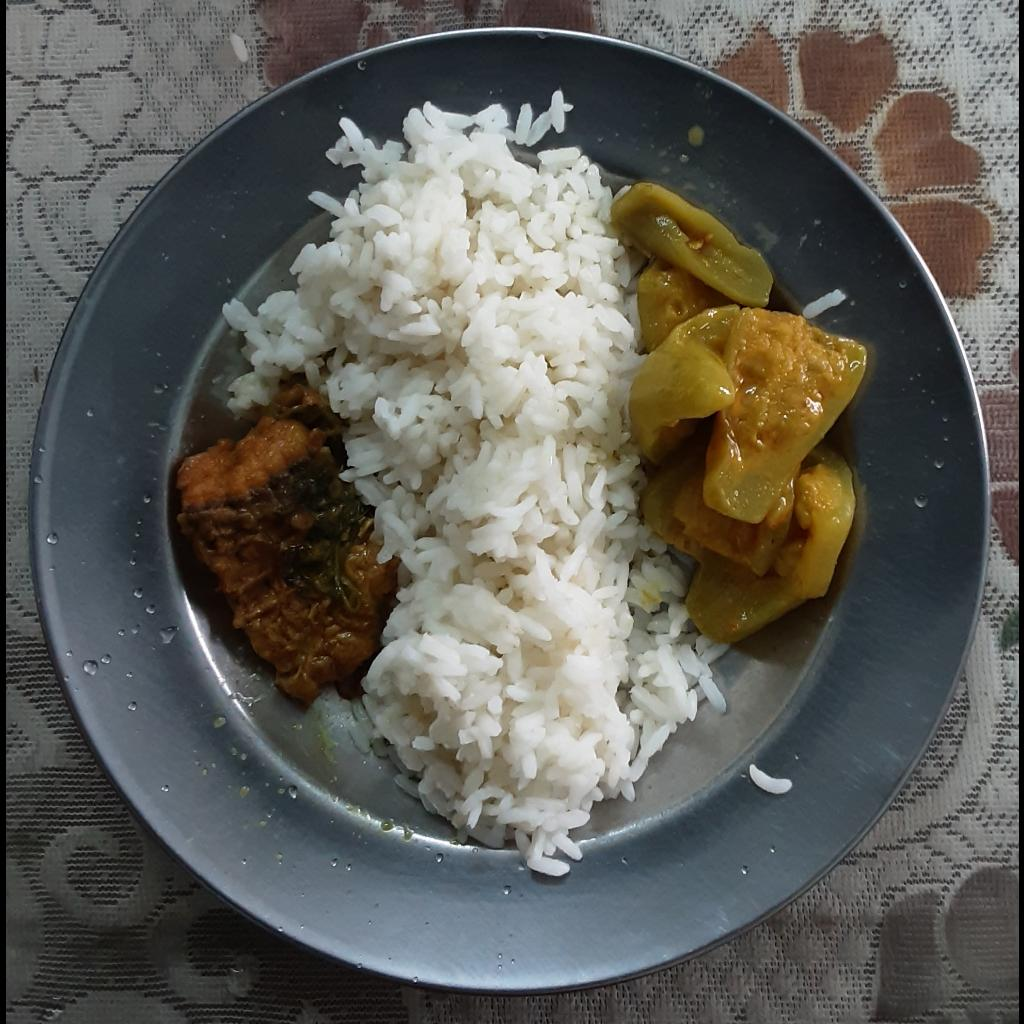chichinga-vaji: (616, 180, 868, 646)
fish: (172, 381, 400, 715)
rice: (218, 86, 731, 872)
